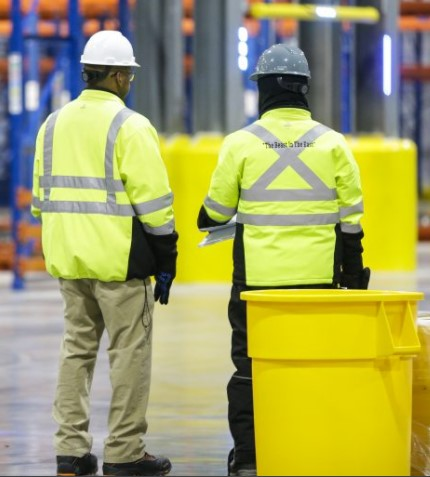worker: (203, 45, 365, 286), (31, 32, 173, 281)
